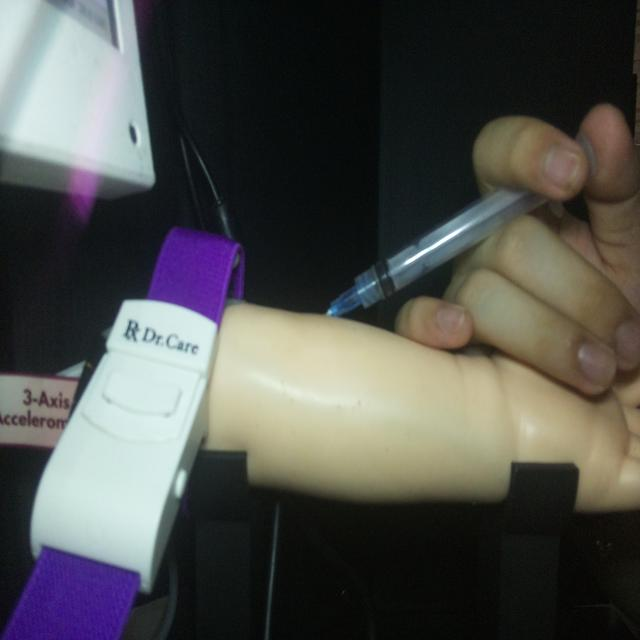26 degrees: (325, 129, 600, 318)
